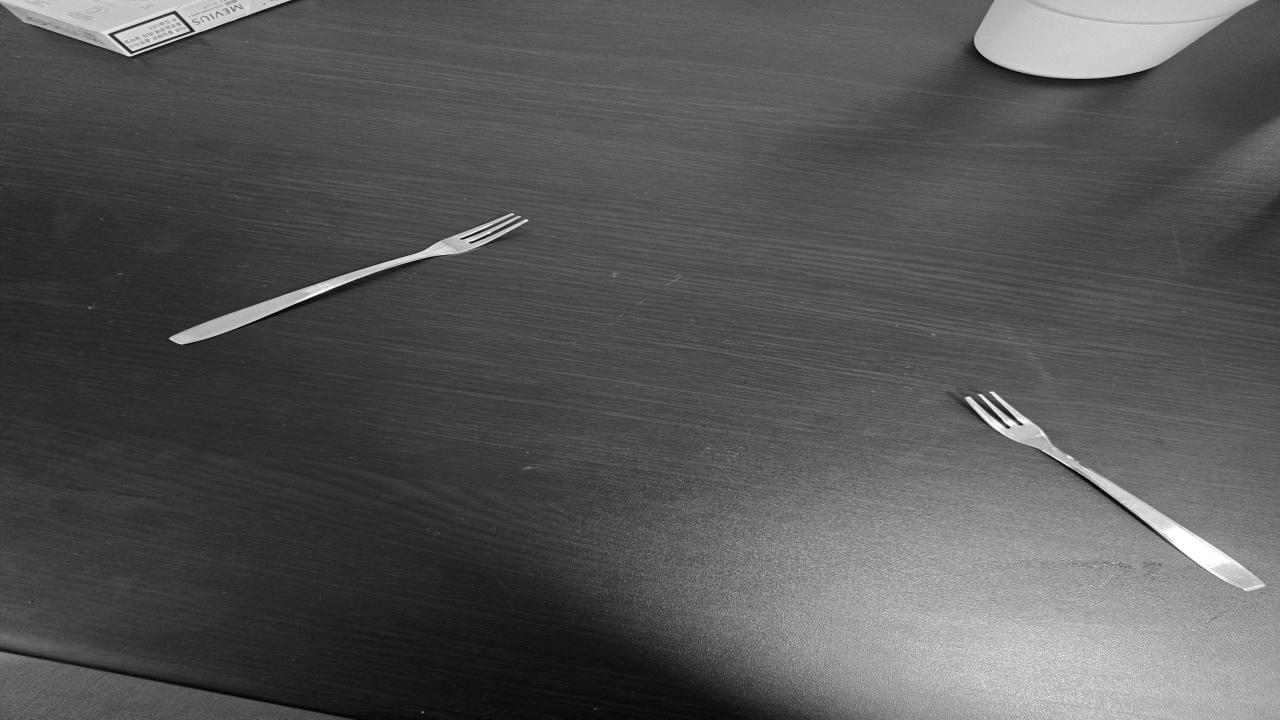fork: (949, 386, 1271, 594), (157, 209, 539, 344)
